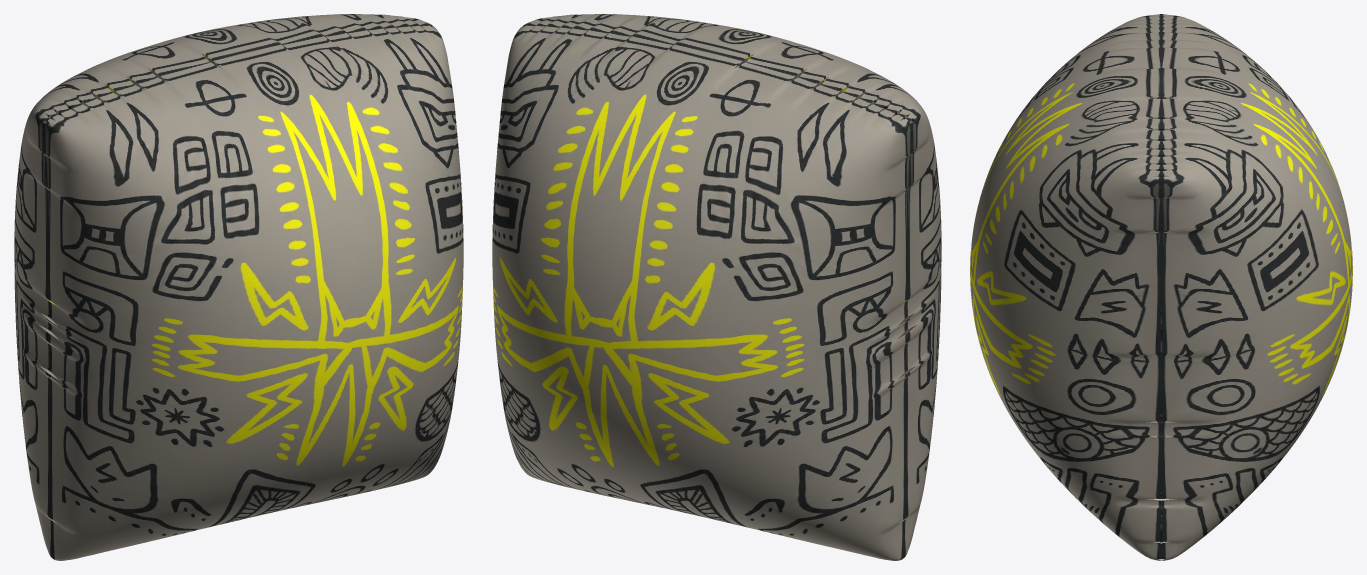
Rendered from engraved_wall.glb.
3 views of the same model, side by side, from view 1: azimuth 30°, elevation 25°; view 2: azimuth 150°, elevation 25°; view 3: azimuth 270°, elevation 25° (orthographic). The views are drawn at different scales.
Visible parts, largest first — view 1: engraved_wall; view 2: engraved_wall; view 3: engraved_wall.
Part boxes in pixels (x1,y1,x2,y2): engraved_wall: (14, 14, 463, 560); engraved_wall: (492, 14, 941, 560); engraved_wall: (970, 14, 1352, 560).
Size of the model in its own units: 0.9875 by 1.12 by 0.9616.
Materials: 1 (1 with a texture image).
